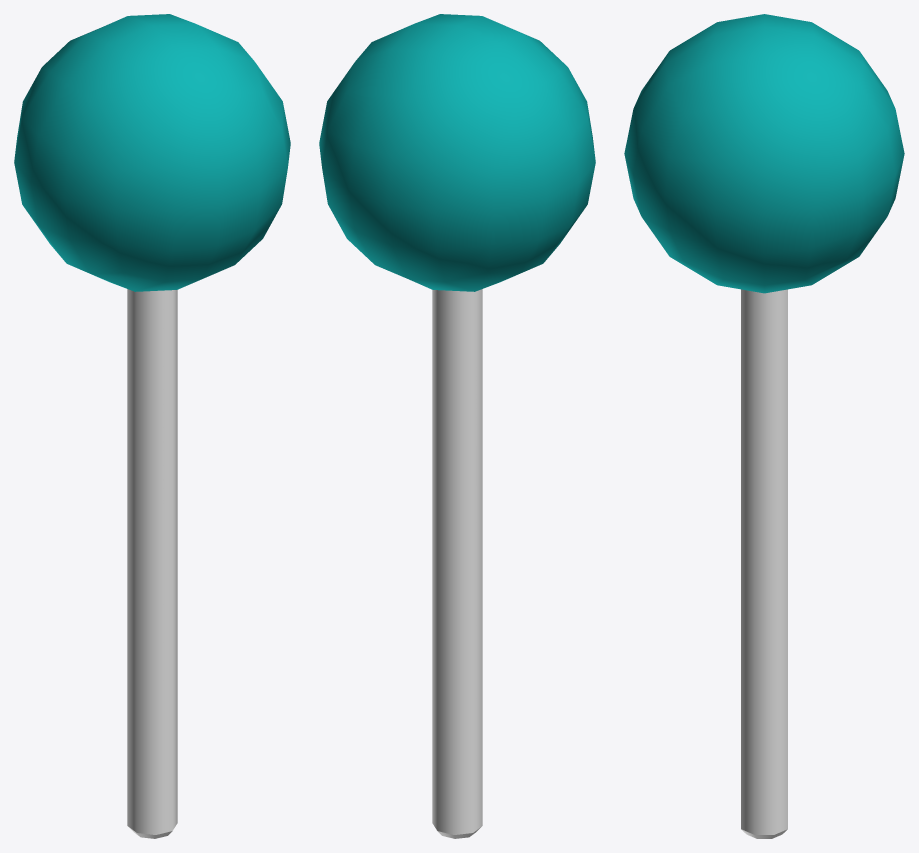
Rendered from Candy_29.fbx.
3 renders of one model, left to right at view 1: azimuth 30°, elevation 25°; view 2: azimuth 150°, elevation 25°; view 3: azimuth 270°, elevation 25°, orthographic.
Parts seen in each view (by area): view 1: Candy_29; view 2: Candy_29; view 3: Candy_29.
Part boxes in pixels (x1,y1,x2,y2): Candy_29: (14, 14, 290, 838); Candy_29: (319, 14, 595, 838); Candy_29: (624, 14, 904, 838).
Size of the model in its own units: 0.8302 by 2.63 by 0.8302.
